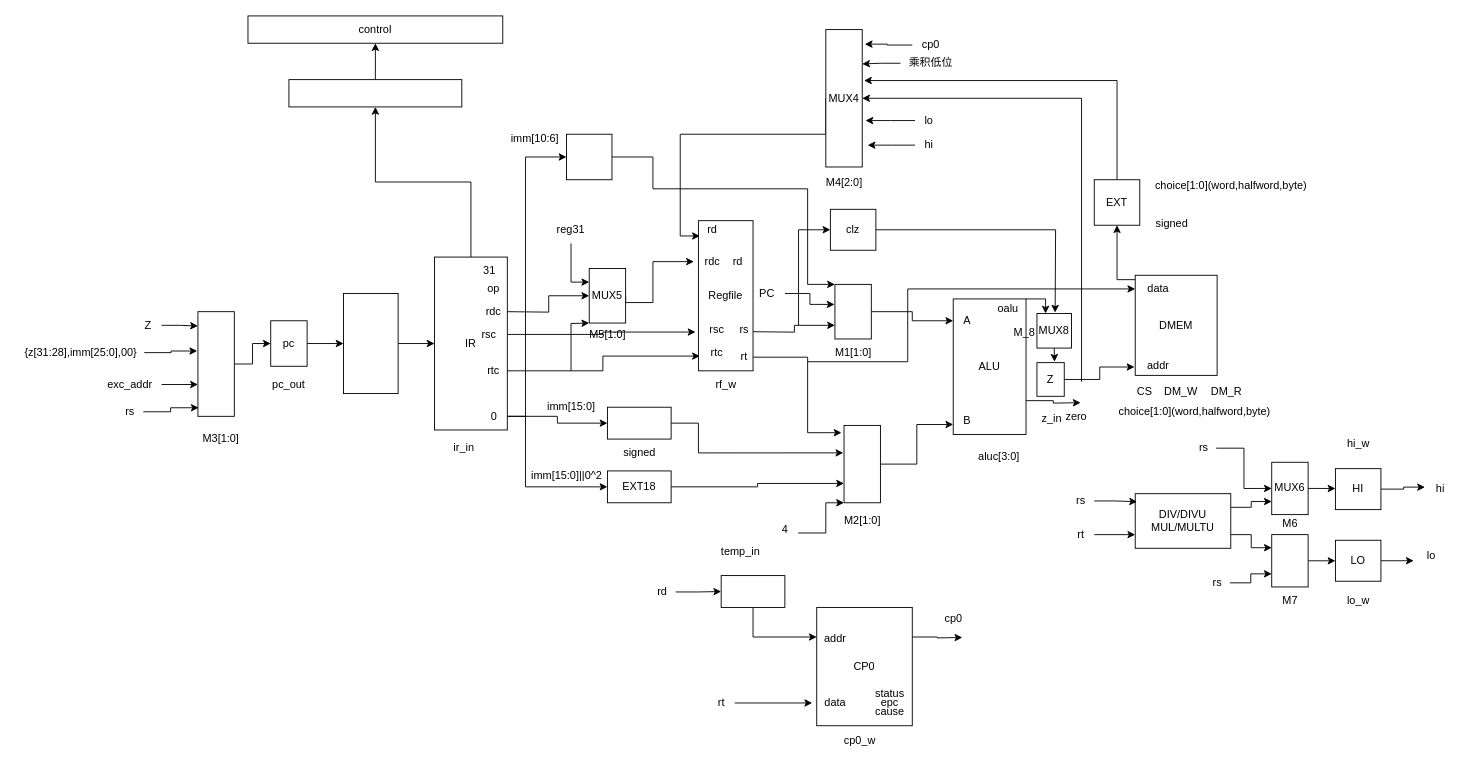
Image size: 1469x769. Some labels were removed from this diagram. Each missing label, with the centre of its shape:
decoder: (375,93)
EXT16: (639,422)
EXT5: (589,156)
IMEM: (370,343)
MUX1: (852,311)
MUX2: (861,464)
MUX3: (215,363)
MUX7: (1289,560)
reg_temp: (752,591)
